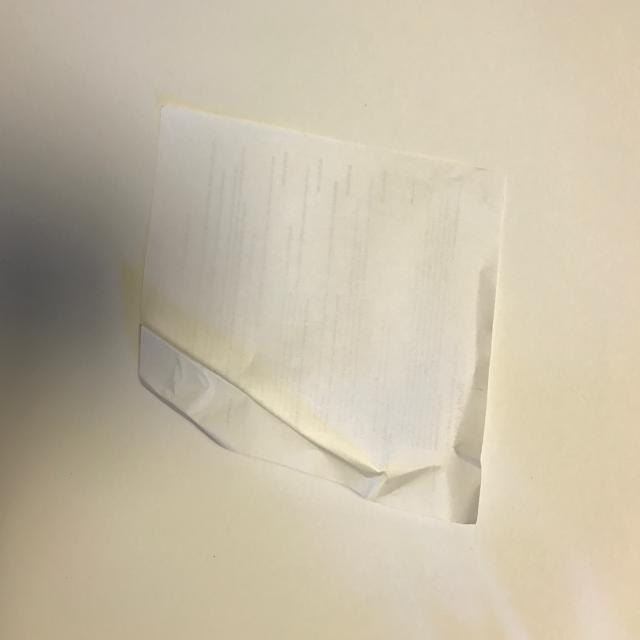paper: (117, 88, 515, 556)
